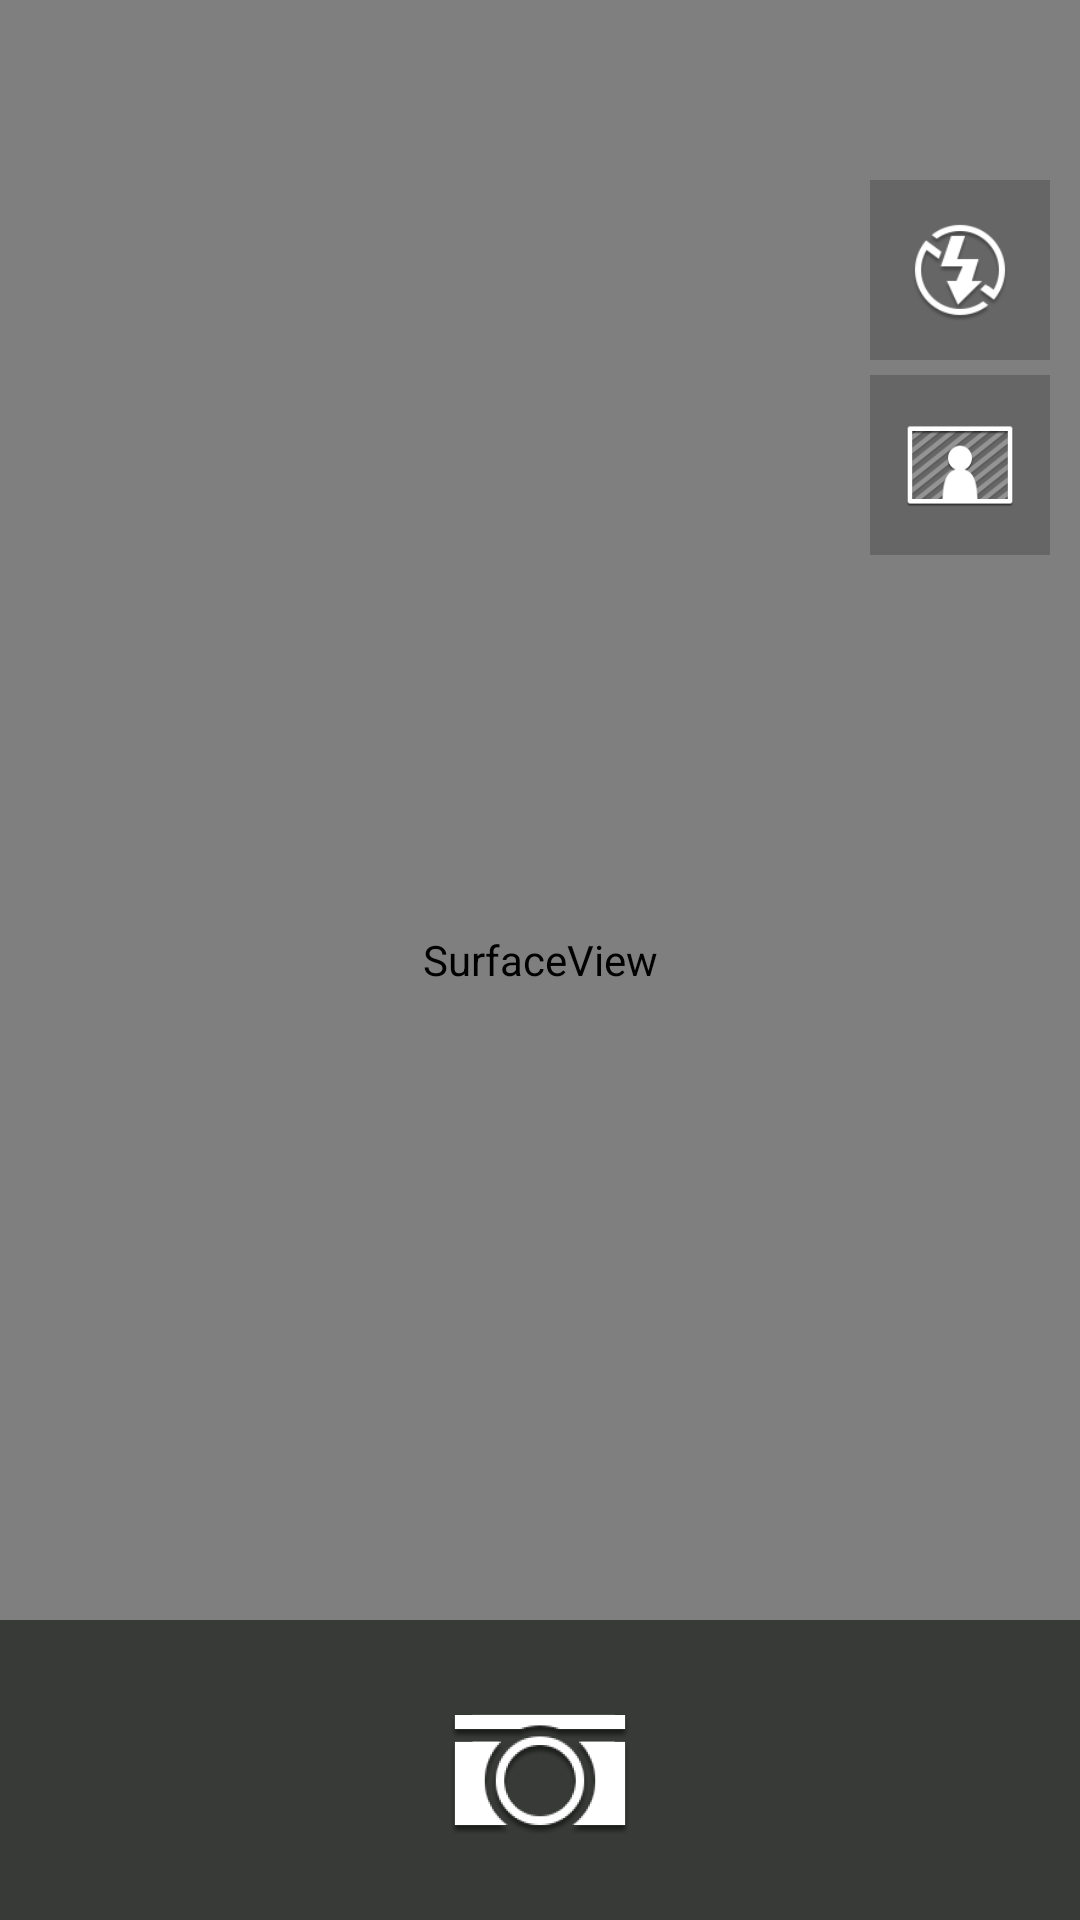

Locate icon controls on the screen. Image size 1080px x 1920px, boxes as (x1, y1, x2, y2).
Tombol Flash: (870, 180, 1050, 360)
